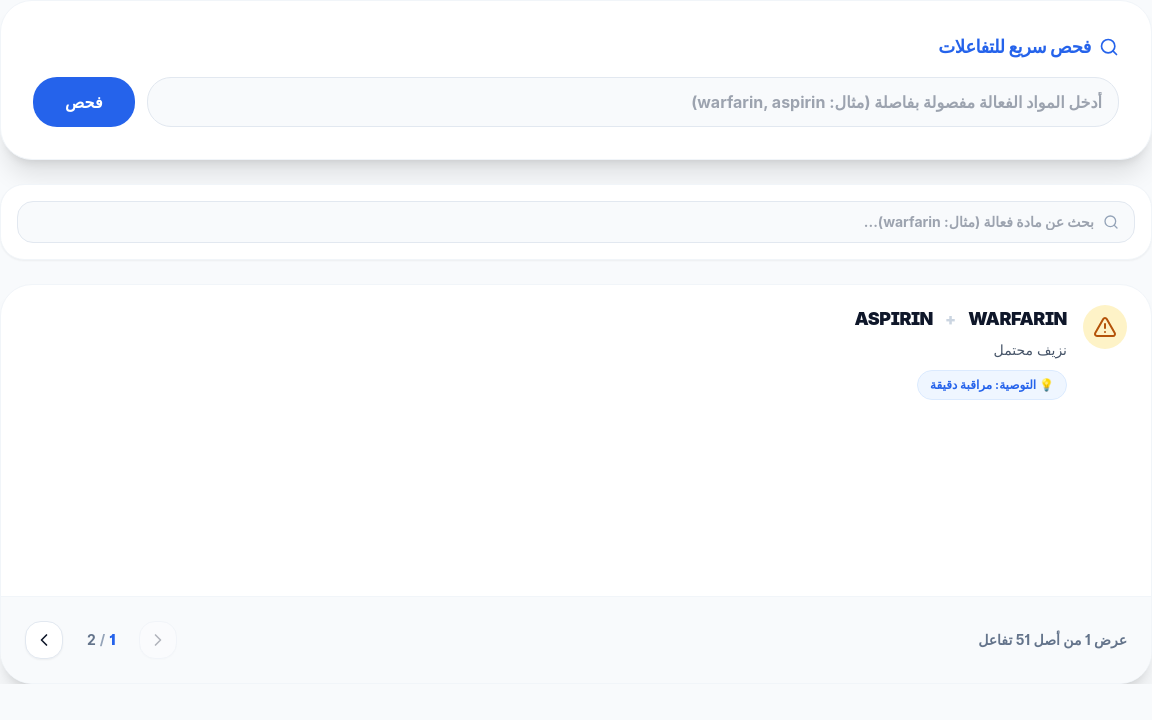
Test case: coverage-gap: drug-interactions UI caller › fetches filtered interaction results when the list search changes and paginates the returned total
Type "warf" into the field with placeholder "بحث عن مادة فعالة (مثال: warfarin)...".
click(576, 222); type("warf")  # box x1=17 y1=201 x2=1135 y2=243
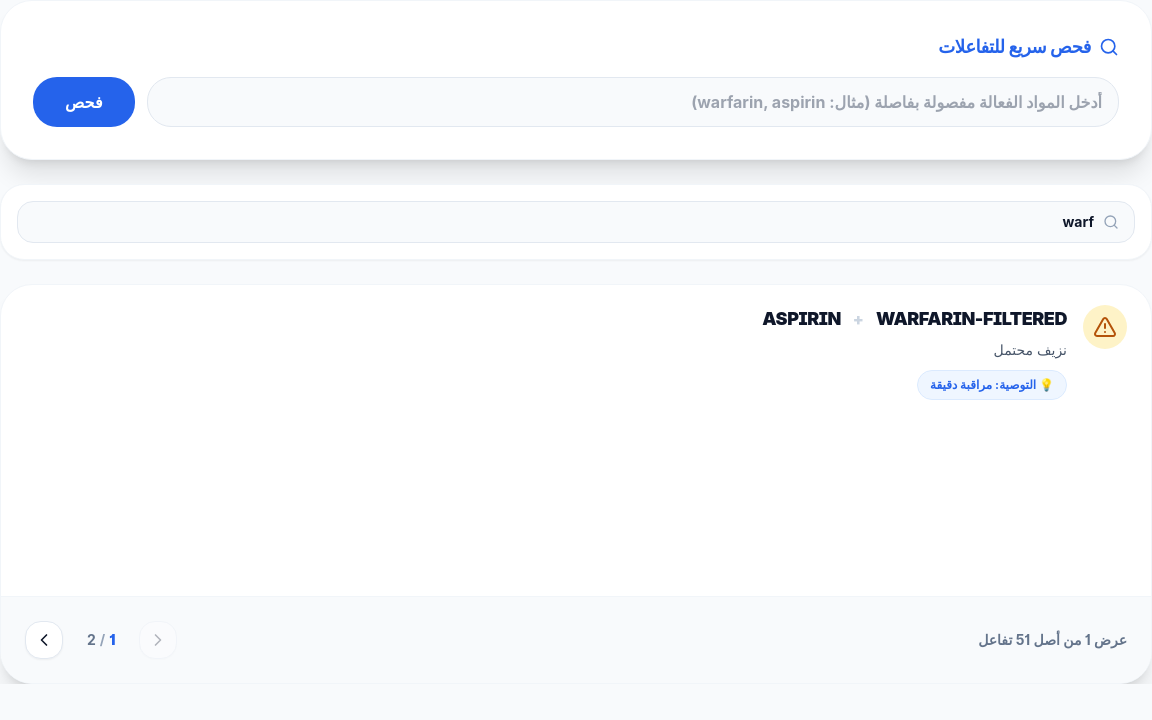
Expected: the text "warfarin-filtered" is shown, x1=876 y1=305 x2=1067 y2=333
Click the button named "الصفحة التالية".
click(44, 640)  # box x1=25 y1=621 x2=63 y2=659
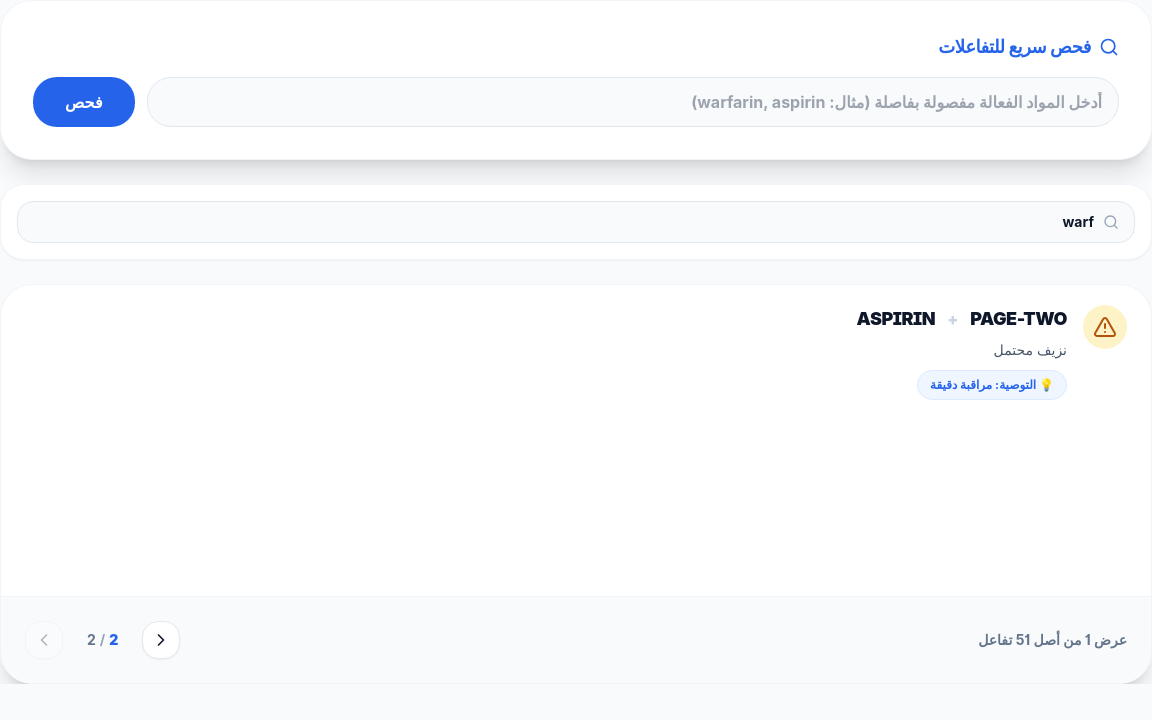
Expected: the text "page-two" is shown, x1=970 y1=305 x2=1067 y2=333
